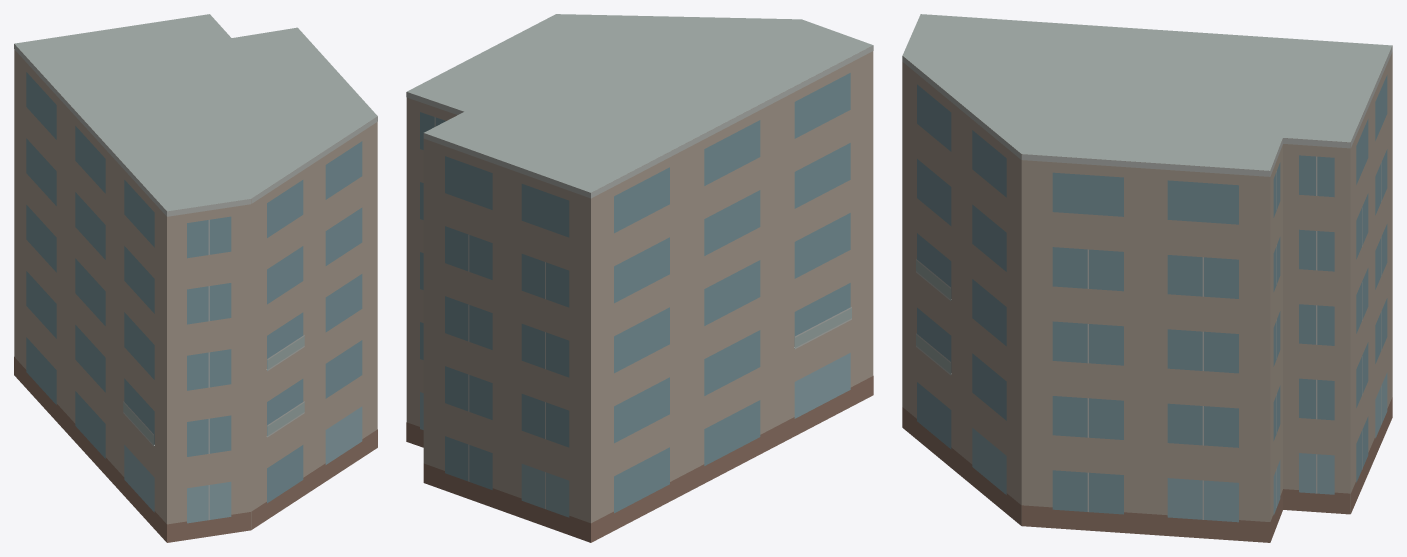
Rendered from survey-upis-32664554.glb.
3 renders of one model, left to right at view 1: azimuth 30°, elevation 25°; view 2: azimuth 150°, elevation 25°; view 3: azimuth 270°, elevation 25°, orthographic. The views are drawn at different scales.
Parts seen in each view (by area): view 1: survey-upis-32664554.tmp; view 2: survey-upis-32664554.tmp; view 3: survey-upis-32664554.tmp.
Part boxes in pixels (x1,y1,x2,y2): survey-upis-32664554.tmp: [14, 14, 377, 542]; survey-upis-32664554.tmp: [406, 14, 873, 542]; survey-upis-32664554.tmp: [902, 14, 1392, 542].
Bounding box in the file's own units: 13.62 × 15.05 × 17.98.
